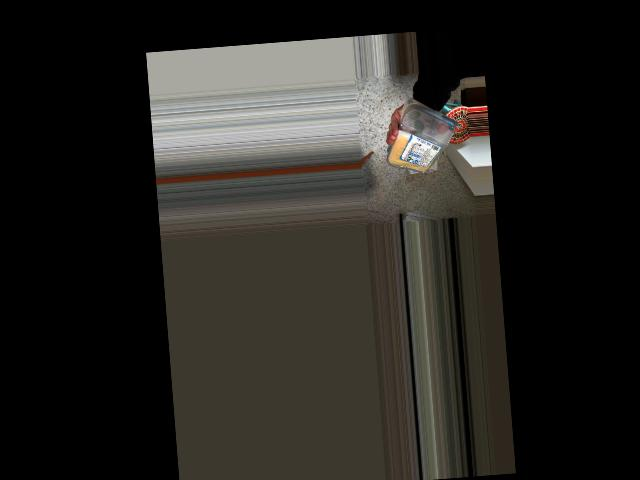cheese: (391, 105, 462, 180)
